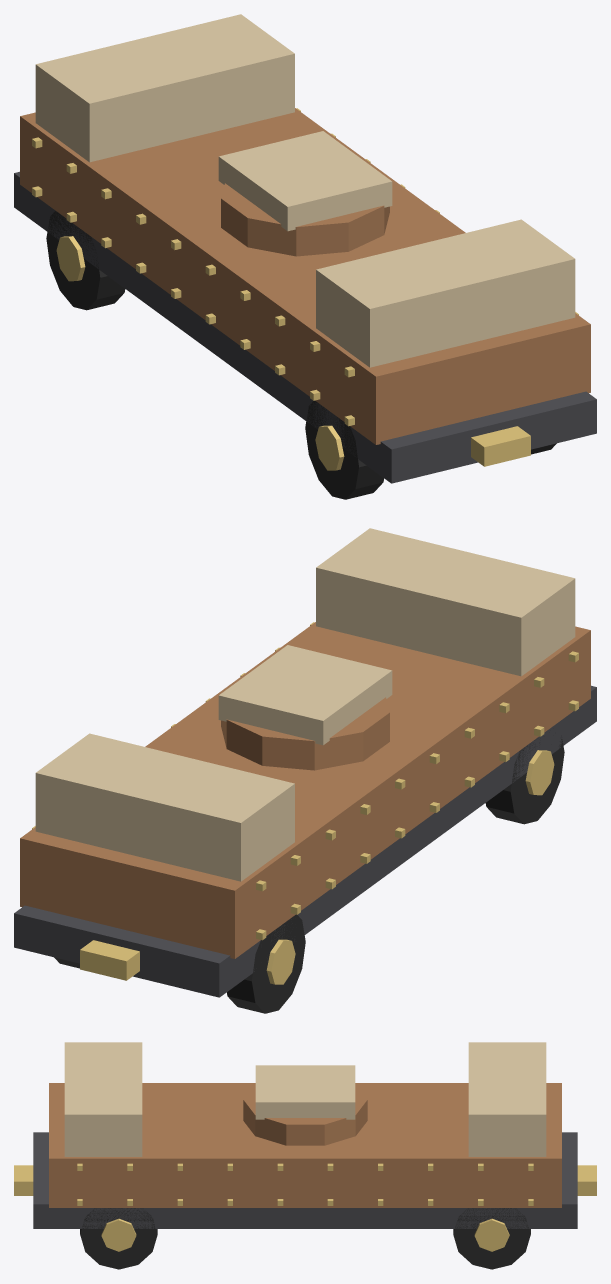
The model's file is carriage_artillery.glb.
3 views of the same model, one above another, from view 1: azimuth 30°, elevation 25°; view 2: azimuth 150°, elevation 25°; view 3: azimuth 270°, elevation 25° (orthographic). The views are drawn at different scales.
Parts seen in each view (by area): view 1: chassis, turret_base, wheel_fl, wheel_rl; view 2: chassis, turret_base, wheel_rl, wheel_fl; view 3: chassis, turret_base, wheel_fr, wheel_rr.
Part boxes in pixels (x1,y1,x2,y2): chassis: (14, 14, 596, 483); turret_base: (218, 131, 392, 256); wheel_fl: (305, 400, 383, 499); wheel_rl: (46, 211, 125, 310); chassis: (14, 528, 596, 997); turret_base: (218, 645, 392, 770); wheel_rl: (227, 914, 305, 1013); wheel_fl: (485, 735, 564, 824); chassis: (14, 1042, 596, 1228); turret_base: (243, 1065, 367, 1145); wheel_fr: (80, 1208, 157, 1269); wheel_rr: (453, 1208, 530, 1269).
Bounding box in the file's own units: 2.47 × 2.2 × 7.5.
